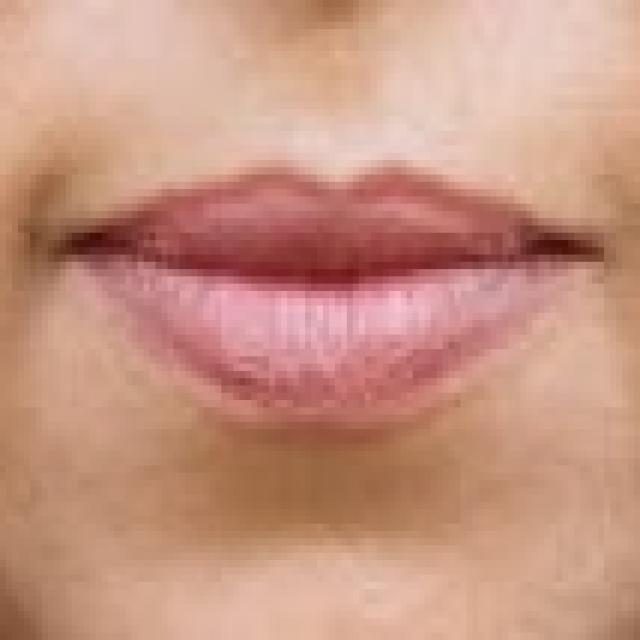closed-mouth: (48, 146, 604, 430)
